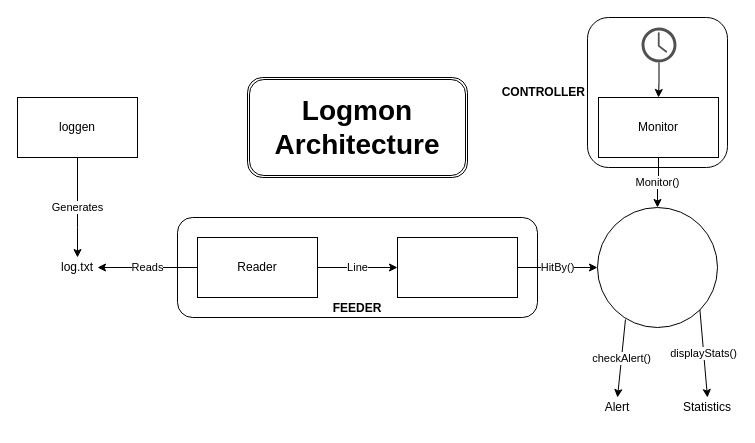
This 755x443 diagram has some shape labels left out. The shapes that lost their labels are listed below. From the top down, each one's centre as x and y in pixels, then its label:
the point at 658,44: 10s
the point at 457,267: Parser
the point at 657,267: Circular Buffer
